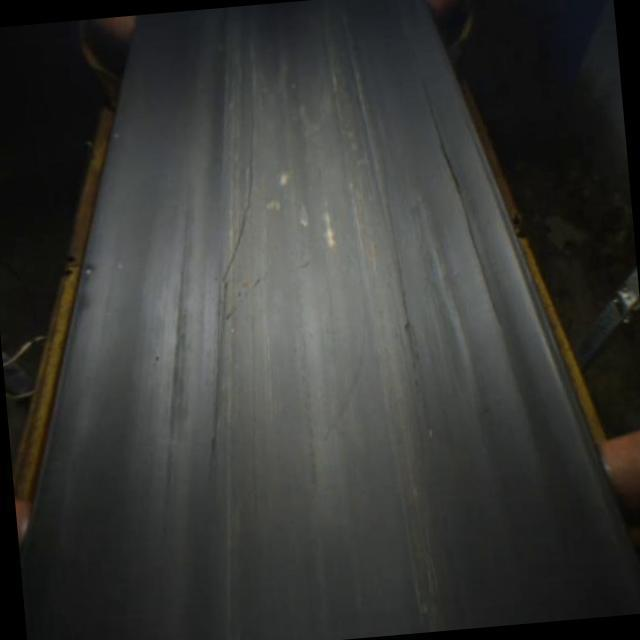Tear: (413, 99, 522, 350), (197, 142, 264, 488)
